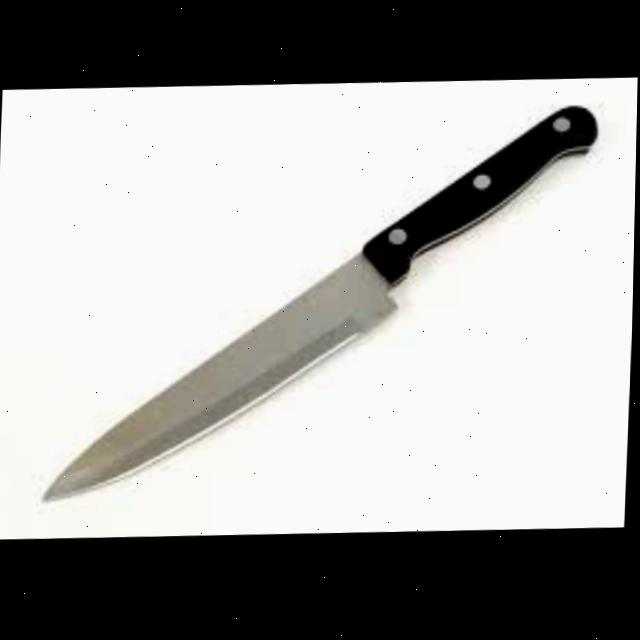knife: (46, 98, 601, 510)
